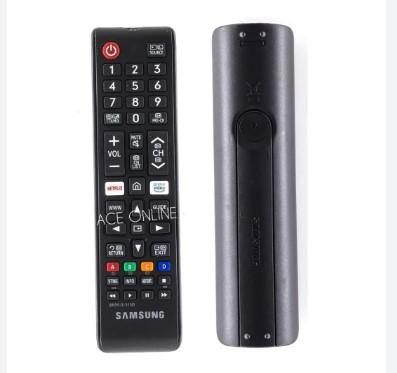Remote control: (91, 27, 182, 355), (212, 23, 300, 348)
